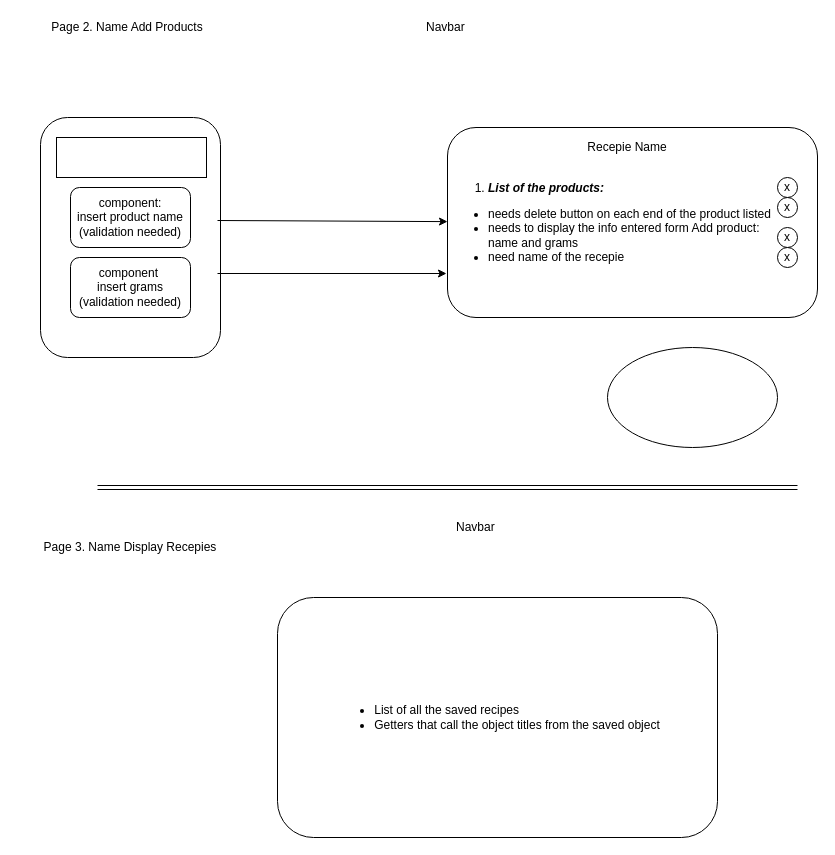
The diagram is 835 pixels wide and 855 high, and some of its shapes have lost their labels. Each missing label, with the centre of its shape:
Save Recepie Push it to the store. reserve space: (692,397)
title: "Add a product": (131,157)
